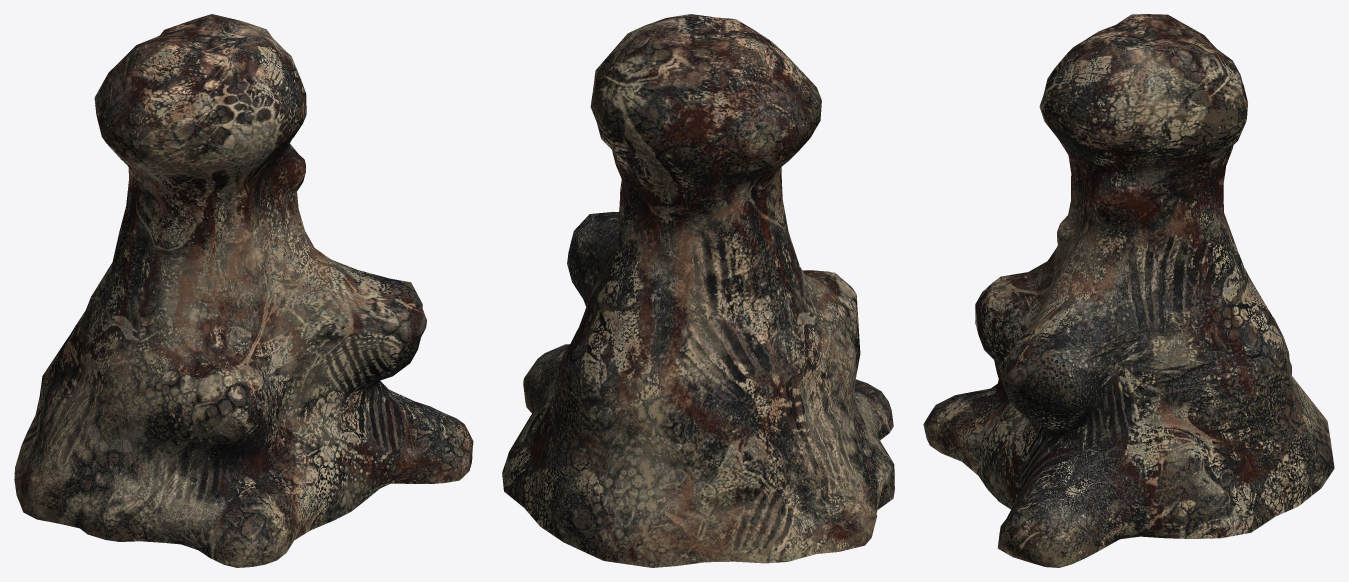
File: ghoul_fetish_base_01.DAE
3 views of the same model, side by side, from view 1: azimuth 30°, elevation 25°; view 2: azimuth 150°, elevation 25°; view 3: azimuth 270°, elevation 25° (orthographic). The views are drawn at different scales.
Visible parts, largest first — view 1: ghoul_fetish_base_01; view 2: ghoul_fetish_base_01; view 3: ghoul_fetish_base_01.
Boxes of the visible parts, x1,y1,x2,y2 form: ghoul_fetish_base_01: (14,14,473,567); ghoul_fetish_base_01: (502,14,894,567); ghoul_fetish_base_01: (923,14,1334,567).
Bounding box in the file's own units: 90.09 × 100 × 84.29.
